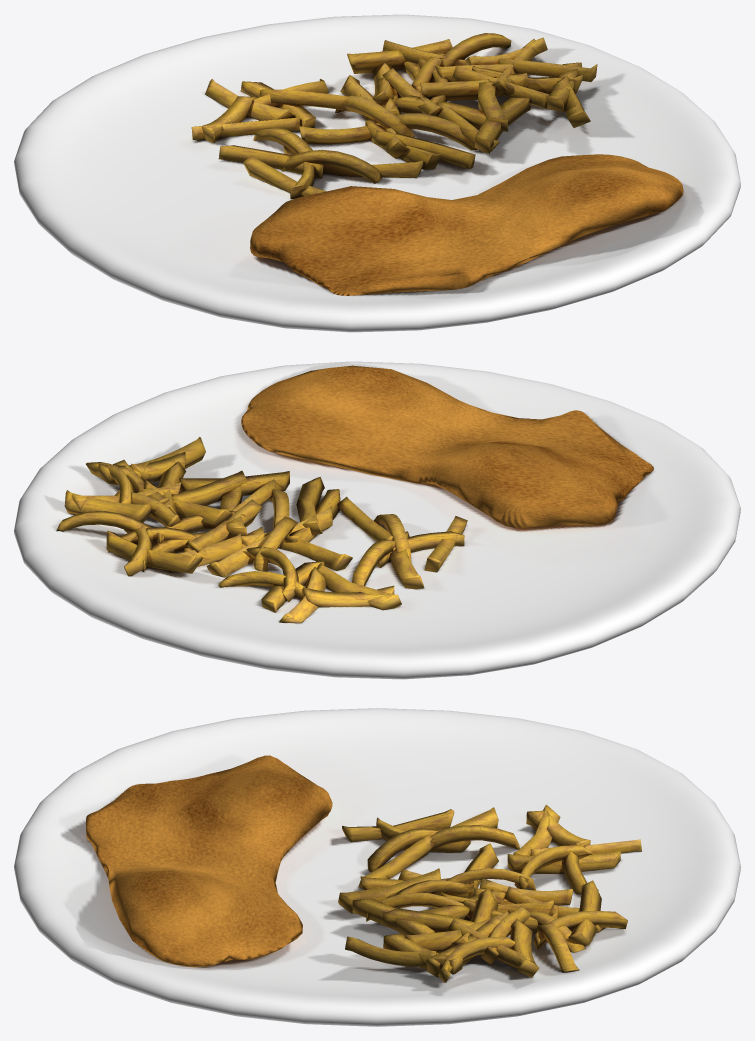
The model's file is meal8.gltf.
3 renders of one model, top to bottom at view 1: azimuth 30°, elevation 25°; view 2: azimuth 150°, elevation 25°; view 3: azimuth 270°, elevation 25°, orthographic. The views are drawn at different scales.
Visible parts, largest first — view 1: Cube, Cube.002, Plane; view 2: Cube, Cube.002, Plane; view 3: Cube, Cube.002, Plane.
Boxes of the visible parts, x1=… form: Cube: x1=14, y1=14, x2=740, y2=332; Cube.002: x1=250, y1=154, x2=683, y2=295; Plane: x1=191, y1=33, x2=597, y2=199; Cube: x1=14, y1=361, x2=740, y2=679; Cube.002: x1=241, y1=365, x2=653, y2=528; Plane: x1=56, y1=437, x2=467, y2=623; Cube: x1=14, y1=708, x2=740, y2=1026; Cube.002: x1=86, y1=755, x2=332, y2=967; Plane: x1=338, y1=805, x2=641, y2=982.
Size of the model in its own units: 23.34 by 2.72 by 23.34.
3 materials, 3 textured.
